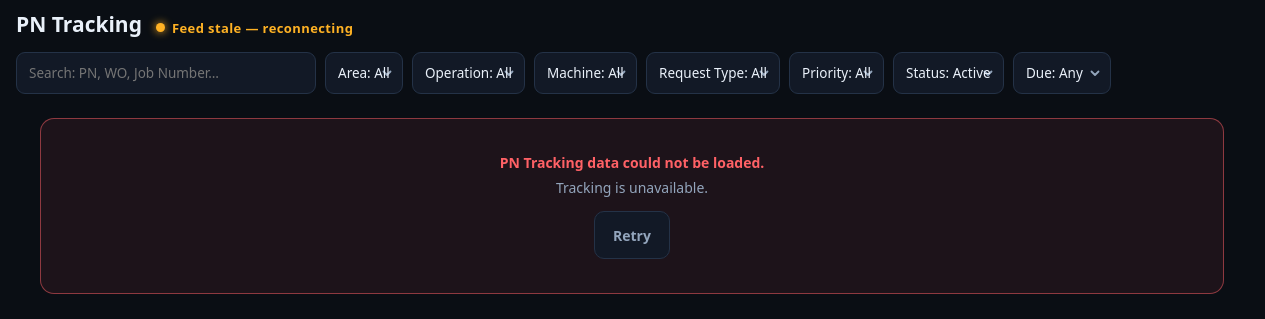
Test: a failed first load is the error state with Retry
The width and height of the screenshot is (1265, 319).
Check: the message "PN Tracking data could not be loaded. Tracking is unavailable. Retry" is shown, box [40, 118, 1224, 294]
Click the button "Retry".
click(632, 235)  # box [594, 211, 670, 259]
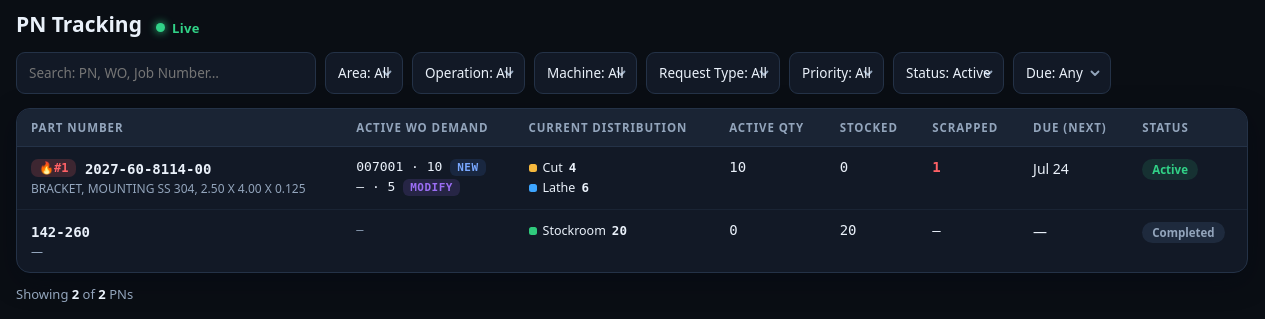
Check: the table with class "tk-table" is shown, box [16, 108, 1248, 273]
